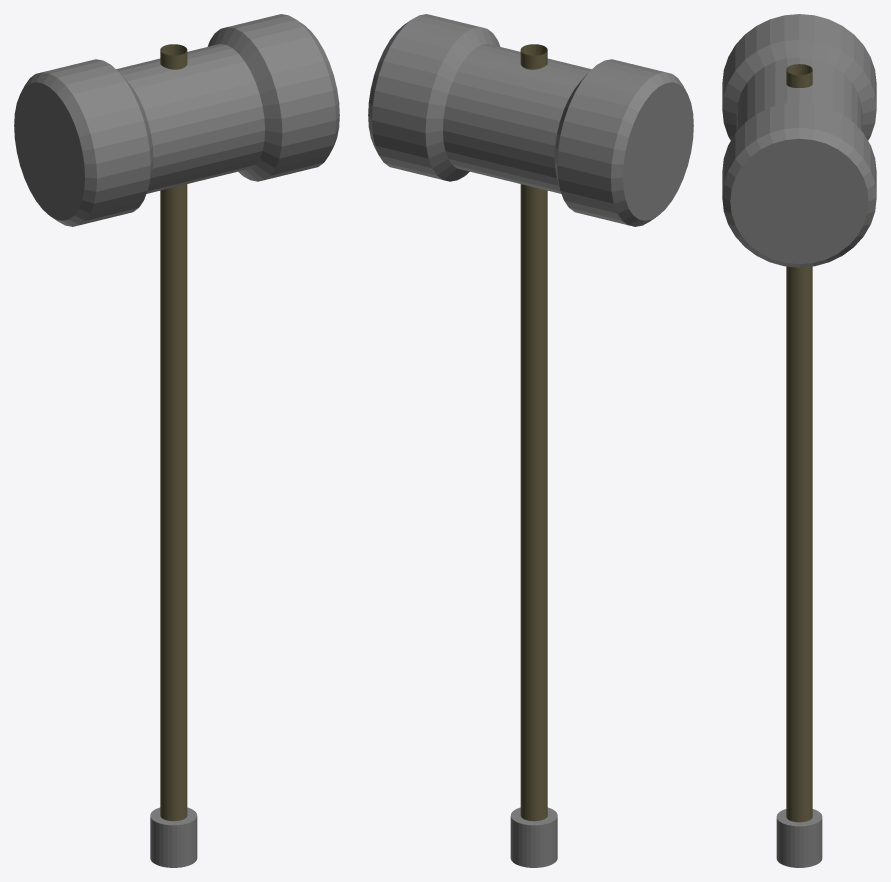
The model's file is hammer.glb.
The picture shows the model from 3 angles, left to right: view 1: azimuth 30°, elevation 25°; view 2: azimuth 150°, elevation 25°; view 3: azimuth 270°, elevation 25°; orthographic projection. The views are drawn at different scales.
Visible parts, largest first — view 1: Hammer, Cylinder.001, Cylinder.002; view 2: Hammer, Cylinder.001, Cylinder.002; view 3: Hammer, Cylinder.001, Cylinder.002.
Boxes of the visible parts, x1,y1,x2,y2 form: Hammer: (14, 14, 339, 226); Cylinder.001: (160, 44, 187, 821); Cylinder.002: (150, 807, 197, 867); Hammer: (368, 14, 693, 226); Cylinder.001: (520, 44, 547, 821); Cylinder.002: (510, 807, 557, 867); Hammer: (722, 14, 876, 267); Cylinder.001: (786, 64, 812, 822); Cylinder.002: (776, 809, 822, 867).
Bounding box in the file's own units: 0.2905 × 0.8809 × 0.1563.
